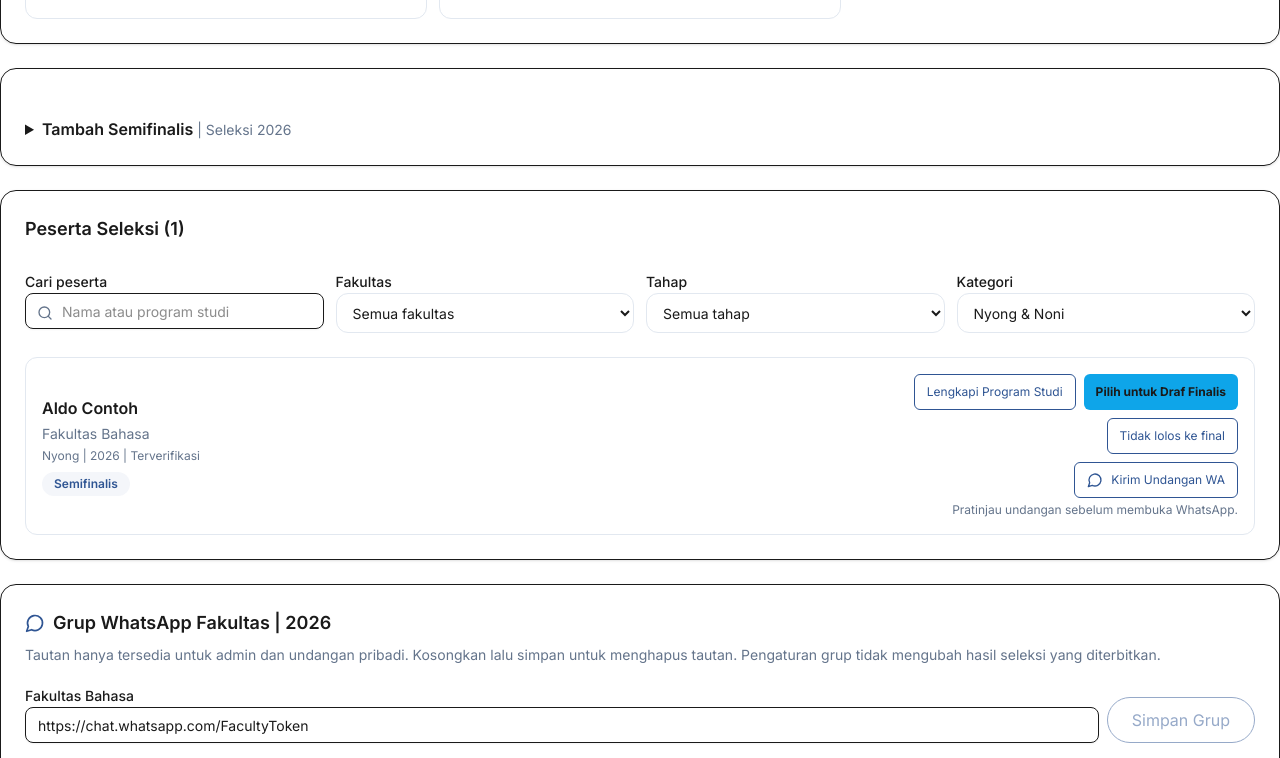
Scenario: Selection admin › shows catalog loading failures in the program dialog without allowing save
The width and height of the screenshot is (1280, 758).
(page scrolled)
Click the button "Lengkapi Program Studi" at (995, 392), box [914, 374, 1076, 410]
(page scrolled)
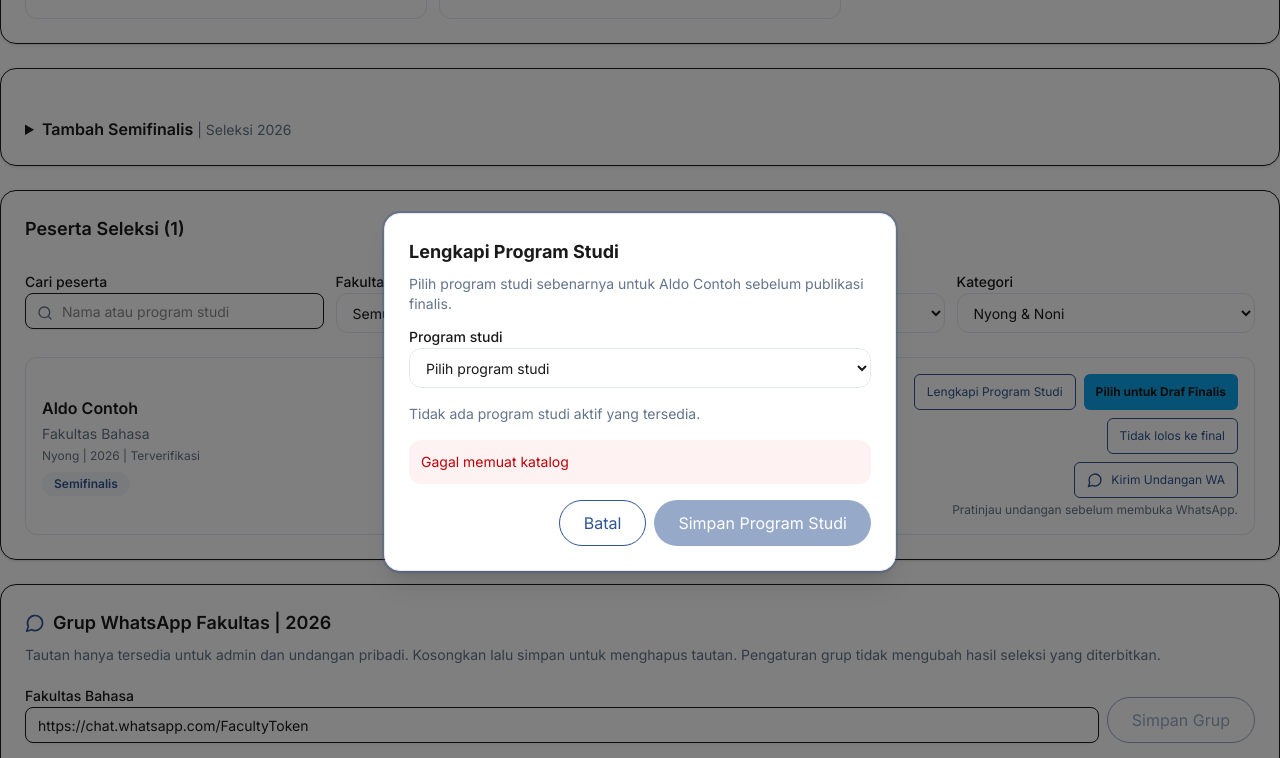
Result: the message reads "Gagal memuat katalog" at [421, 453, 569, 470]
Result: the button "Simpan Program Studi" is disabled at [654, 500, 871, 546]
